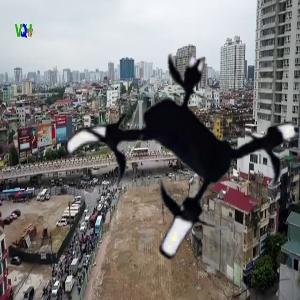drone: (61, 43, 298, 280)
